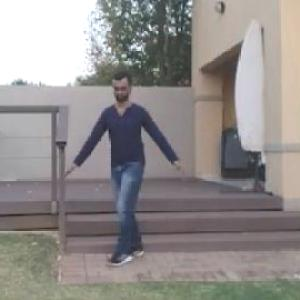land: (76, 79, 194, 272)
